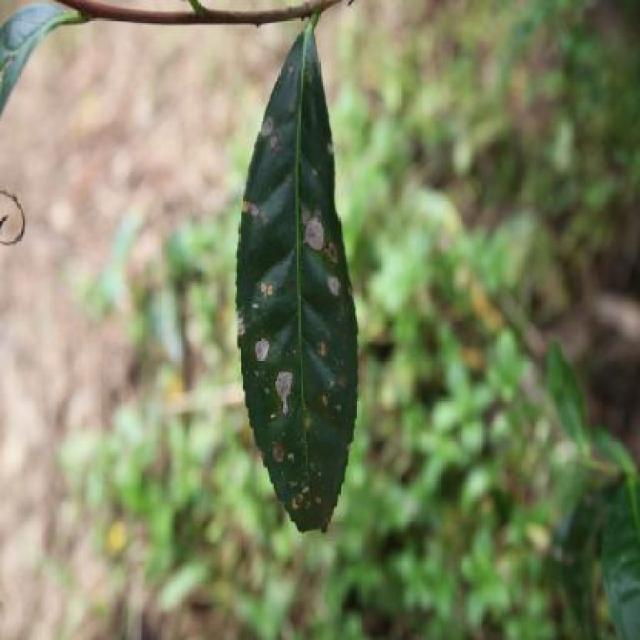Leaf rust of tea: (231, 29, 358, 531)
